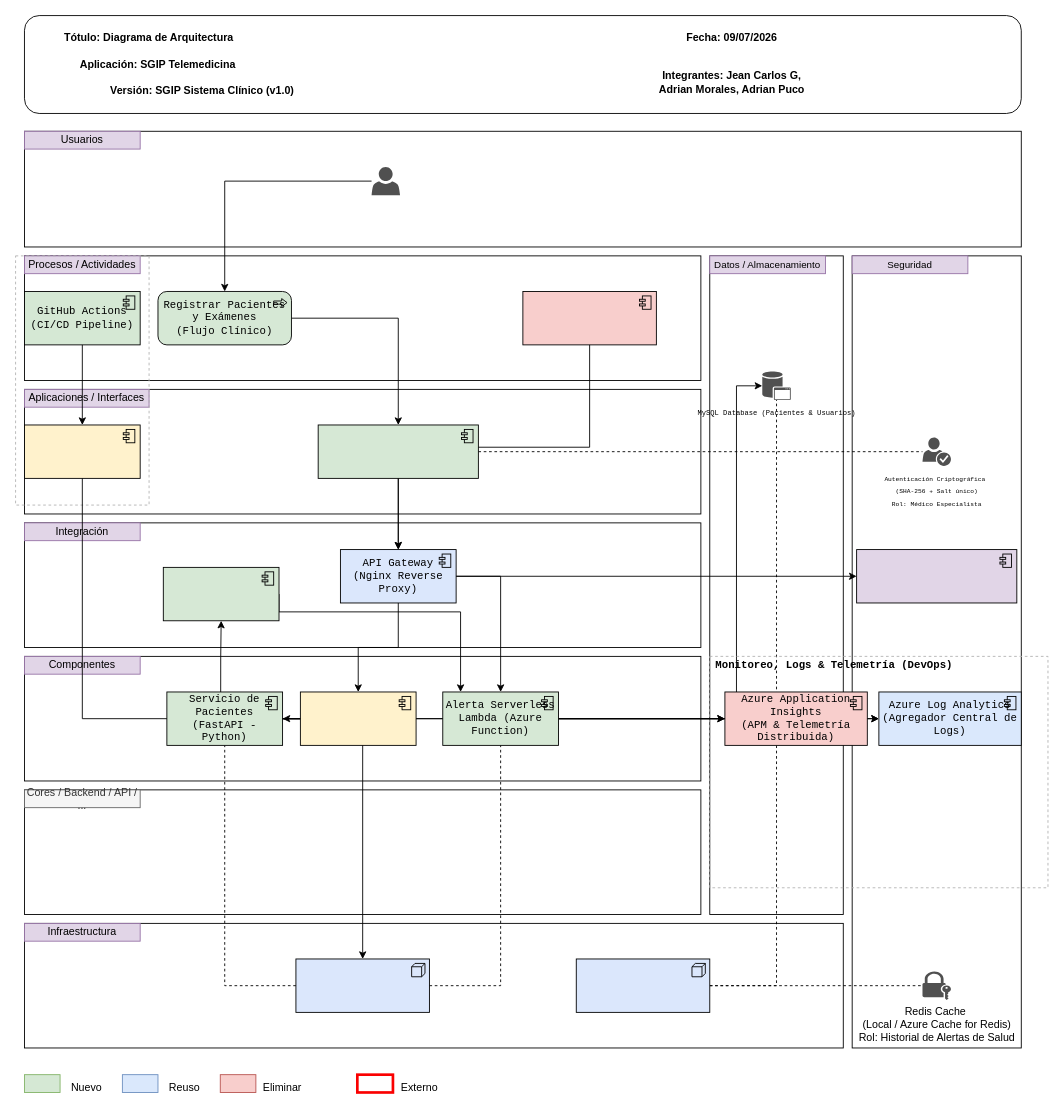
The diagram is 1064 pixels wide and 1117 high, and some of its shapes have lost their labels. The centre of each missing label's shape, as x and y in pixels:
"Azure Container Registry (ACR)" goes at point 82,451.
"Cola de Mensajería (RabbitMQ / Azure Service Bus)" goes at point 220,593.
"Contenedor Docker (Local) / Azure Container Apps" goes at point 362,985.
"Laboratorio Clínico Externo (Envío de Exámenes JSON/XML)" goes at point 589,318.
"Médicos / Personal de Salud (Portal Clínico Web)" goes at point 385,180.
"Nginx Access/Error Logs (Volumen de Auditoría HTTP)" goes at point 936,576.
"Pasarela de Integración (JSON/XML Adapter)" goes at point 357,718.
"Portal Clínico de Pacientes (SGIP)" goes at point 397,451.
"Serverless Host (Azure Functions / Local Container)" goes at point 642,985.
